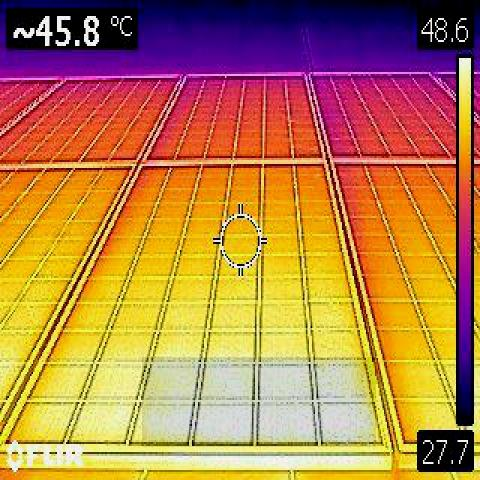fault: (142, 357, 376, 447)
